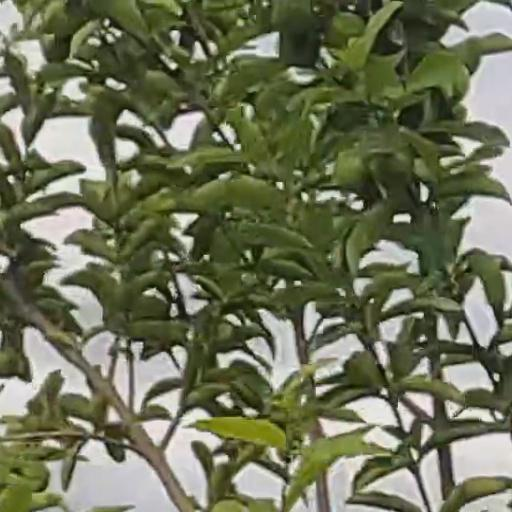acerola: (329, 14, 360, 46), (340, 152, 363, 190)
